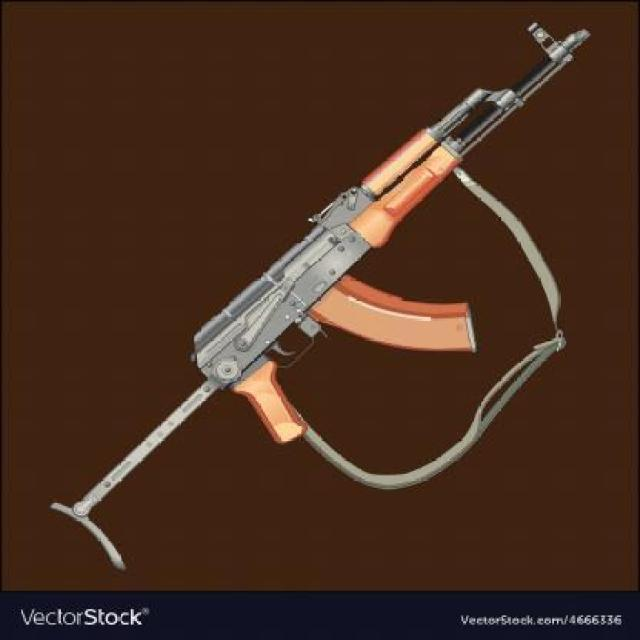weapon: (26, 5, 601, 583)
